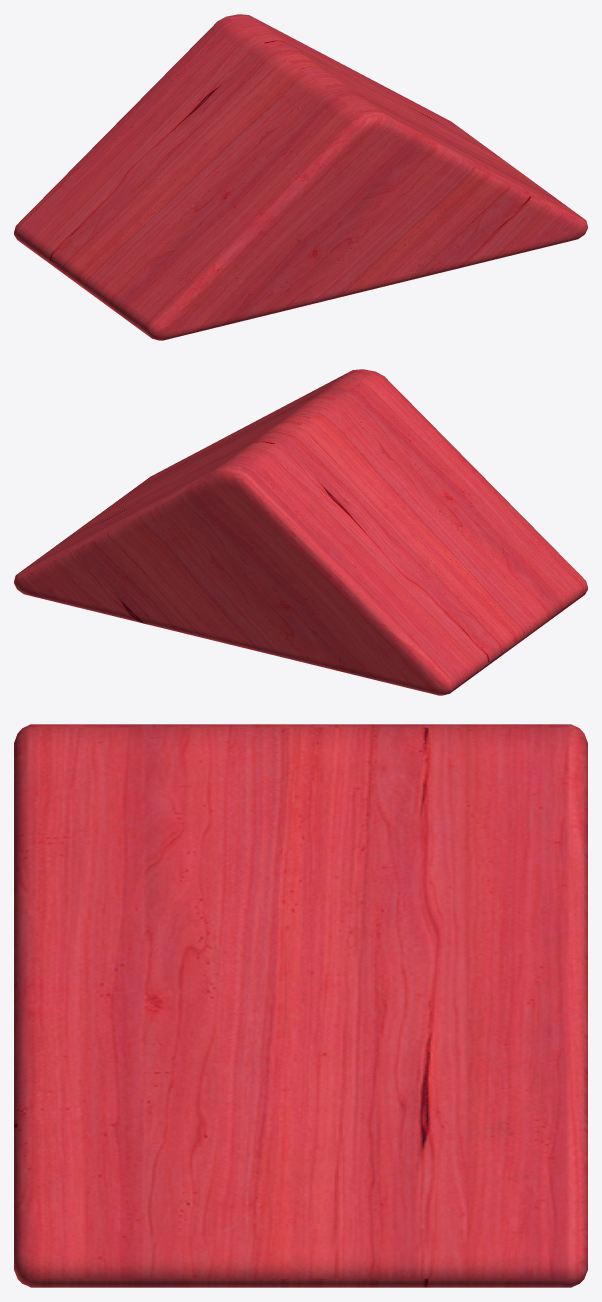
The model's file is Piece 3.FBX.
3 views of the same model, one above another, from view 1: azimuth 30°, elevation 25°; view 2: azimuth 150°, elevation 25°; view 3: azimuth 270°, elevation 25° (orthographic). The views are drawn at different scales.
Parts seen in each view (by area): view 1: piece 3; view 2: piece 3; view 3: piece 3.
Boxes of the visible parts, x1,y1,x2,y2 form: piece 3: [14, 14, 587, 340]; piece 3: [14, 369, 587, 695]; piece 3: [14, 724, 587, 1287].
Size of the model in its own units: 2.04 by 0.7781 by 1.15.
